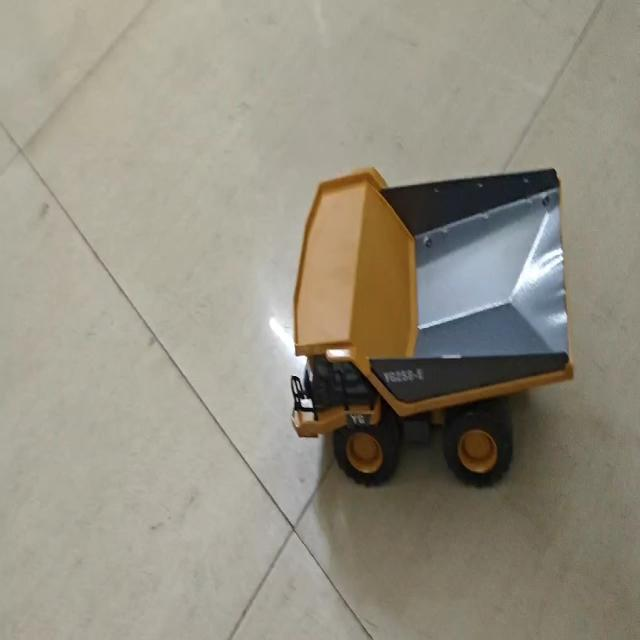dump_truck: (278, 160, 577, 498)
